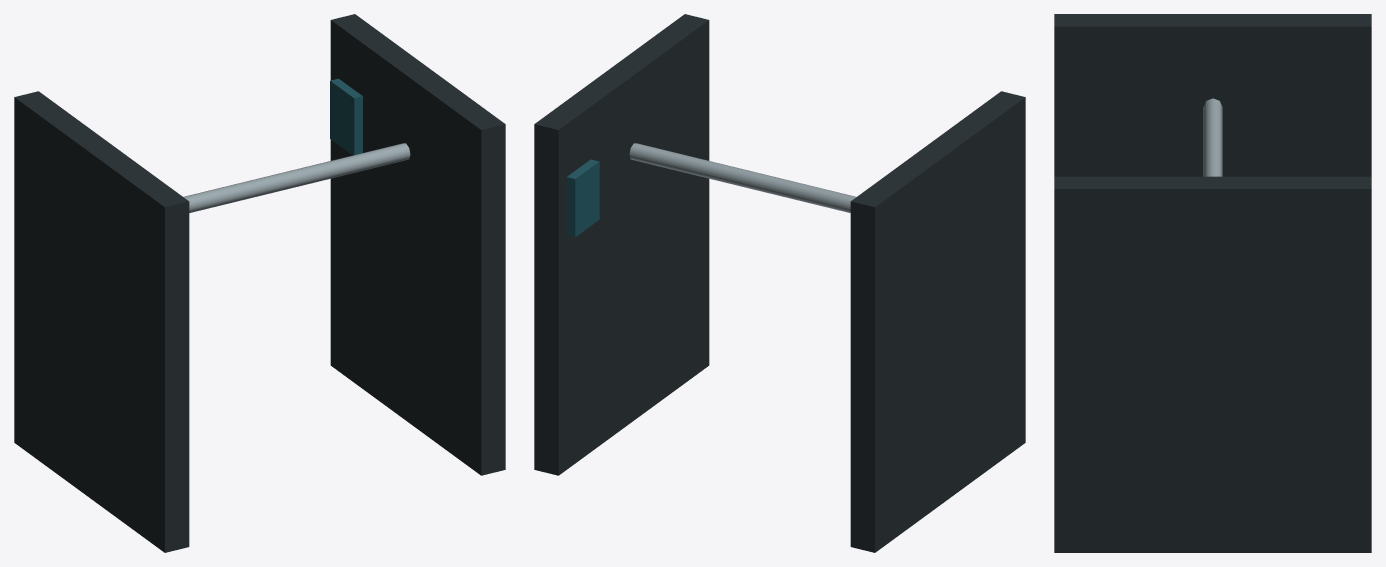
Rendered from SM_StationBoardingGate.fbx.
3 views of the same model, side by side, from view 1: azimuth 30°, elevation 25°; view 2: azimuth 150°, elevation 25°; view 3: azimuth 270°, elevation 25° (orthographic). The views are drawn at different scales.
Visible parts, largest first — view 1: SM_StationBoardingGate_UEExport; view 2: SM_StationBoardingGate_UEExport; view 3: SM_StationBoardingGate_UEExport.
Boxes of the visible parts, x1,y1,x2,y2 form: SM_StationBoardingGate_UEExport: (14,14,505,552); SM_StationBoardingGate_UEExport: (534,14,1025,552); SM_StationBoardingGate_UEExport: (1054,14,1371,552).
Size of the model in its own units: 196 by 150 by 190.
